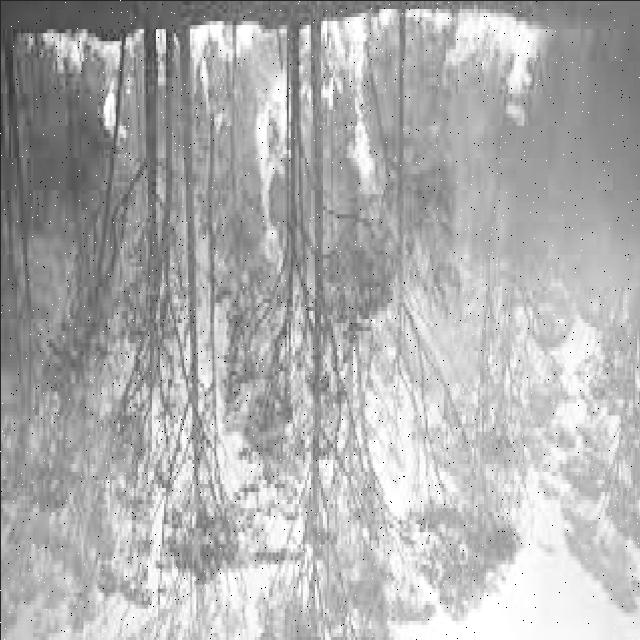api: (258, 20, 290, 262), (349, 12, 378, 204), (496, 9, 539, 129), (438, 1, 491, 83), (191, 24, 253, 85), (40, 28, 122, 73), (322, 16, 350, 97), (103, 86, 125, 142), (404, 3, 438, 37), (155, 31, 167, 83), (382, 9, 394, 33)
